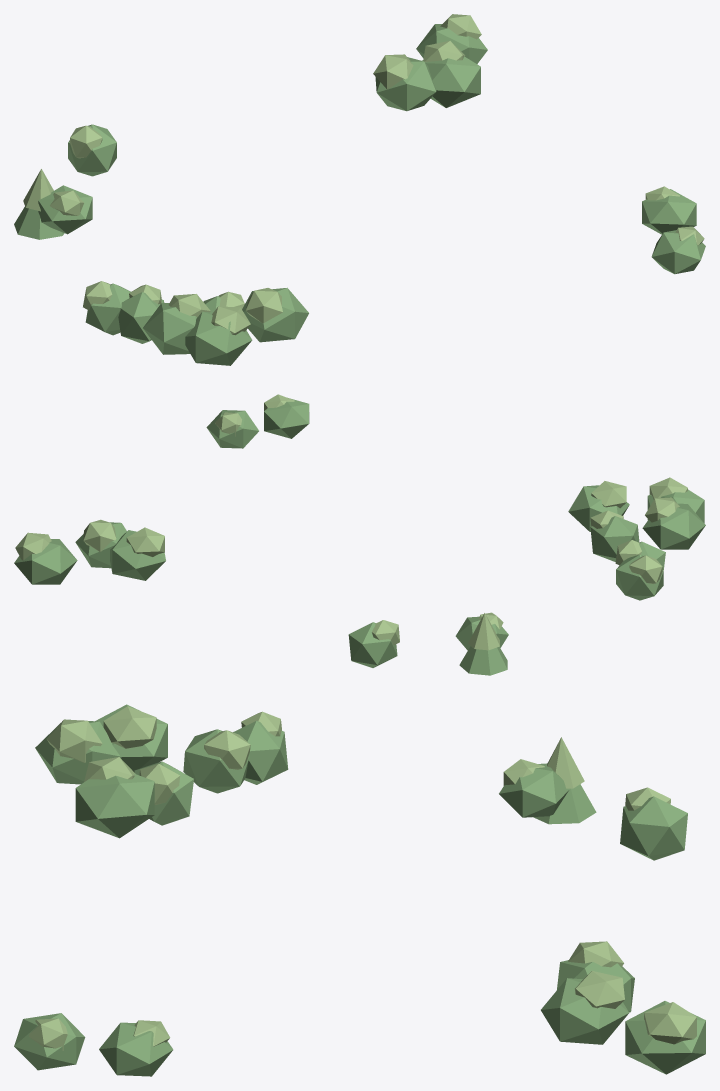
Rendered from mushroom_glen_wind_canopies.fbx.
3 renders of one model, top to bottom at view 1: azimuth 30°, elevation 25°; view 2: azimuth 150°, elevation 25°; view 3: azimuth 270°, elevation 25°, orthographic. The views are drawn at different scales.
Visible parts, largest first — view 1: chunk_mushroom_glen__tree_canopy_07, chunk_mushroom_glen__tree_canopy_21, chunk_mushroom_glen__tree_canopy_03, chunk_mushroom_glen__tree_canopy_20, chunk_mushroom_glen__tree_canopy_16, chunk_mushroom_glen__tree_canopy_27, chunk_mushroom_glen__tree_canopy_23, chunk_mushroom_glen__tree_canopy_04, chunk_mushroom_glen__tree_canopy_12, chunk_mushroom_glen__tree_canopy_18, chunk_mushroom_glen__tree_canopy_02, chunk_mushroom_glen__tree_canopy_25 (+11 smaller); view 2: chunk_mushroom_glen__tree_canopy_03, chunk_mushroom_glen__tree_canopy_25, chunk_mushroom_glen__tree_canopy_20, chunk_mushroom_glen__tree_canopy_18, chunk_mushroom_glen__tree_canopy_23, chunk_mushroom_glen__tree_canopy_13, chunk_mushroom_glen__tree_canopy_02, chunk_mushroom_glen__tree_canopy_09, chunk_mushroom_glen__tree_canopy_27, chunk_mushroom_glen__tree_canopy_16, chunk_mushroom_glen__tree_canopy_19, chunk_mushroom_glen__tree_canopy_21 (+10 smaller); view 3: chunk_mushroom_glen__tree_canopy_16, chunk_mushroom_glen__tree_canopy_21, chunk_mushroom_glen__tree_canopy_18, chunk_mushroom_glen__tree_canopy_25, chunk_mushroom_glen__tree_canopy_27, chunk_mushroom_glen__tree_canopy_12, chunk_mushroom_glen__tree_canopy_04, chunk_mushroom_glen__tree_canopy_23, chunk_mushroom_glen__tree_canopy_02, chunk_mushroom_glen__tree_canopy_07, chunk_mushroom_glen__tree_canopy_28, chunk_mushroom_glen__tree_canopy_06 (+12 smaller).
Part boxes in pixels (bbox=[...]): chunk_mushroom_glen__tree_canopy_07: bbox=[185, 311, 252, 365]; chunk_mushroom_glen__tree_canopy_21: bbox=[422, 56, 480, 107]; chunk_mushroom_glen__tree_canopy_03: bbox=[143, 303, 196, 354]; chunk_mushroom_glen__tree_canopy_20: bbox=[375, 57, 436, 111]; chunk_mushroom_glen__tree_canopy_16: bbox=[242, 287, 308, 342]; chunk_mushroom_glen__tree_canopy_27: bbox=[642, 189, 696, 234]; chunk_mushroom_glen__tree_canopy_23: bbox=[651, 230, 705, 274]; chunk_mushroom_glen__tree_canopy_04: bbox=[118, 292, 164, 343]; chunk_mushroom_glen__tree_canopy_12: bbox=[38, 185, 92, 234]; chunk_mushroom_glen__tree_canopy_18: bbox=[68, 124, 116, 176]; chunk_mushroom_glen__tree_canopy_02: bbox=[85, 283, 130, 335]; chunk_mushroom_glen__tree_canopy_25: bbox=[416, 24, 487, 63]; chunk_mushroom_glen__tree_canopy_03: bbox=[642, 503, 705, 549]; chunk_mushroom_glen__tree_canopy_25: bbox=[14, 539, 77, 584]; chunk_mushroom_glen__tree_canopy_20: bbox=[110, 530, 165, 580]; chunk_mushroom_glen__tree_canopy_18: bbox=[348, 622, 397, 667]; chunk_mushroom_glen__tree_canopy_23: bbox=[264, 398, 309, 438]; chunk_mushroom_glen__tree_canopy_13: bbox=[590, 516, 639, 561]; chunk_mushroom_glen__tree_canopy_02: bbox=[616, 554, 663, 600]; chunk_mushroom_glen__tree_canopy_09: bbox=[459, 646, 507, 675]; chunk_mushroom_glen__tree_canopy_27: bbox=[206, 410, 258, 448]; chunk_mushroom_glen__tree_canopy_16: bbox=[568, 485, 629, 531]; chunk_mushroom_glen__tree_canopy_19: bbox=[126, 527, 164, 556]; chunk_mushroom_glen__tree_canopy_21: bbox=[75, 522, 126, 568]; chunk_mushroom_glen__tree_canopy_16: bbox=[75, 773, 154, 838]; chunk_mushroom_glen__tree_canopy_21: bbox=[541, 978, 629, 1044]; chunk_mushroom_glen__tree_canopy_18: bbox=[620, 796, 687, 860]; chunk_mushroom_glen__tree_canopy_25: bbox=[625, 1001, 705, 1074]; chunk_mushroom_glen__tree_canopy_27: bbox=[99, 1022, 173, 1076]; chunk_mushroom_glen__tree_canopy_12: bbox=[499, 763, 569, 817]; chunk_mushroom_glen__tree_canopy_04: bbox=[183, 729, 249, 793]; chunk_mushroom_glen__tree_canopy_23: bbox=[14, 1013, 85, 1070]; chunk_mushroom_glen__tree_canopy_02: bbox=[233, 720, 288, 784]; chunk_mushroom_glen__tree_canopy_07: bbox=[35, 719, 120, 784]; chunk_mushroom_glen__tree_canopy_28: bbox=[644, 1002, 696, 1044]; chunk_mushroom_glen__tree_canopy_06: bbox=[103, 706, 156, 748].
Size of the model in its own units: 202 by 26.35 by 175.
